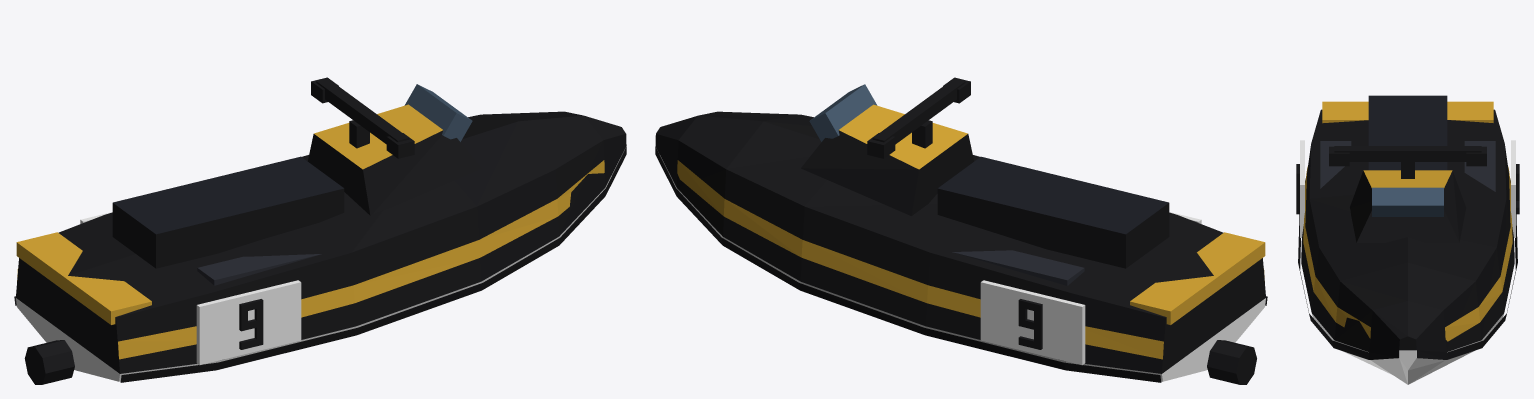
The model's file is jetski_negro_body.obj.
3 views of the same model, side by side, from view 1: azimuth 30°, elevation 25°; view 2: azimuth 150°, elevation 25°; view 3: azimuth 270°, elevation 25° (orthographic). The views are drawn at different scales.
Parts seen in each view (by area): view 1: jetski_negro_body; view 2: jetski_negro_body; view 3: jetski_negro_body.
Boxes of the visible parts, bbox=[...] form: jetski_negro_body: bbox=[14, 77, 626, 384]; jetski_negro_body: bbox=[655, 77, 1267, 384]; jetski_negro_body: bbox=[1296, 95, 1519, 384].
Size of the model in its own units: 3.58 by 1.85 by 1.3.
